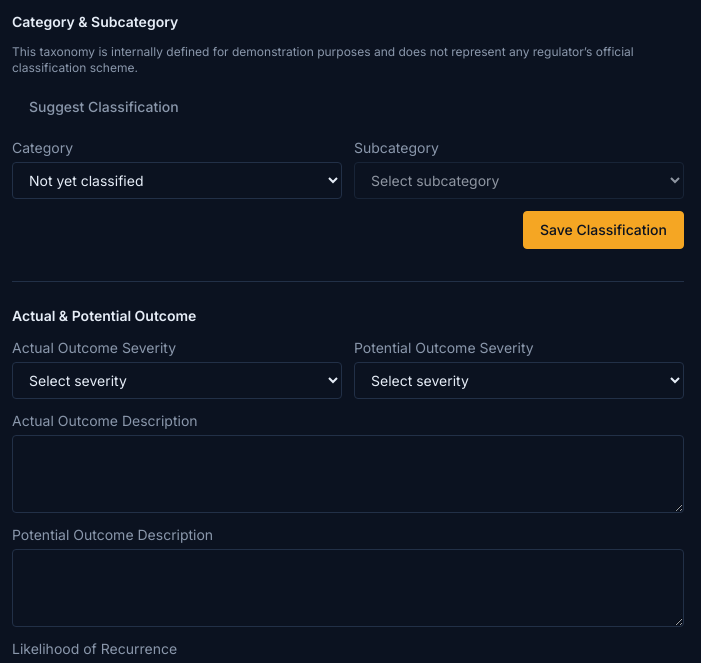
Test: ClassificationPanel — Suggested Classification (rule-based, not AI) › dismissing a suggestion discards it without touching the Category field
Step 1. Click the button "Suggest Classification" → (104, 107), box [12,88,196,126]
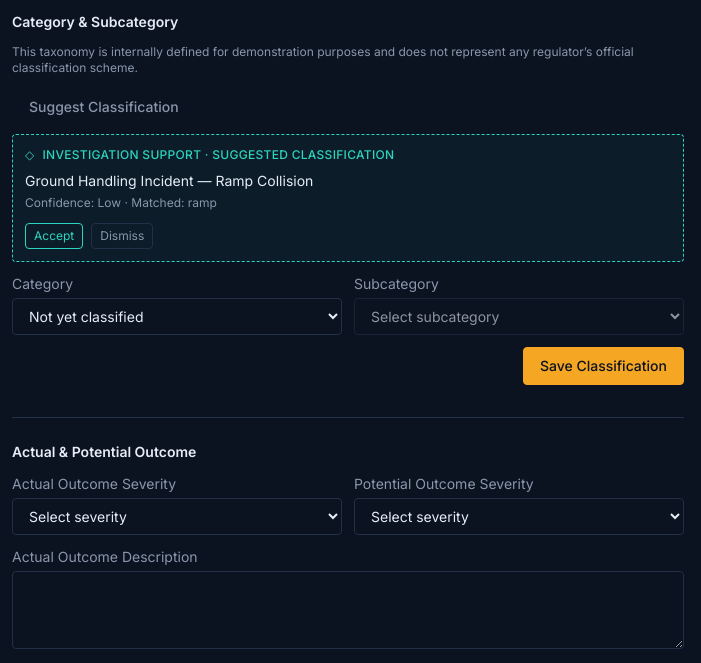
Check: the text "Investigation Support · Suggested Classification" is shown, box [42,147,394,162]
Step 2. Click the button "Dismiss" → (122, 236), box [91,223,153,249]
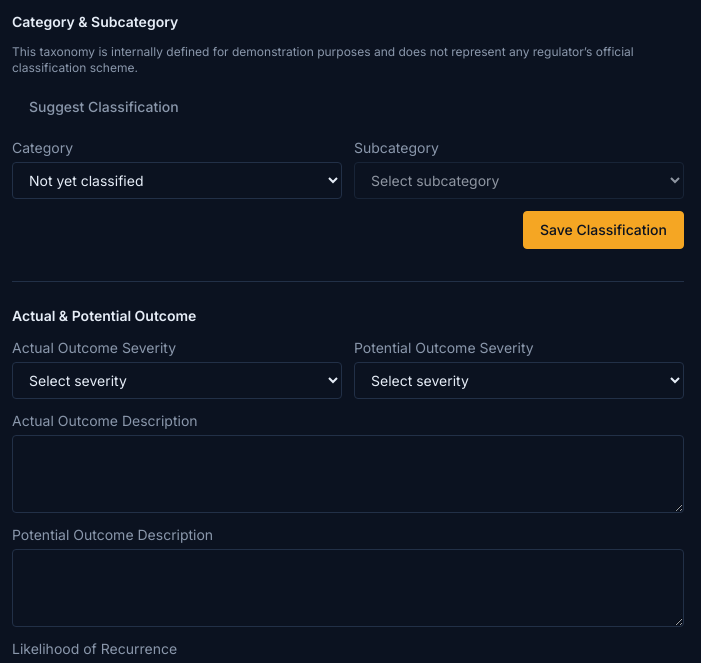
Check: the dropdown labelled "Category" shows "Not yet classified", box [12,162,342,199]
Check: the text "Investigation Support · Suggested Classification" is gone
